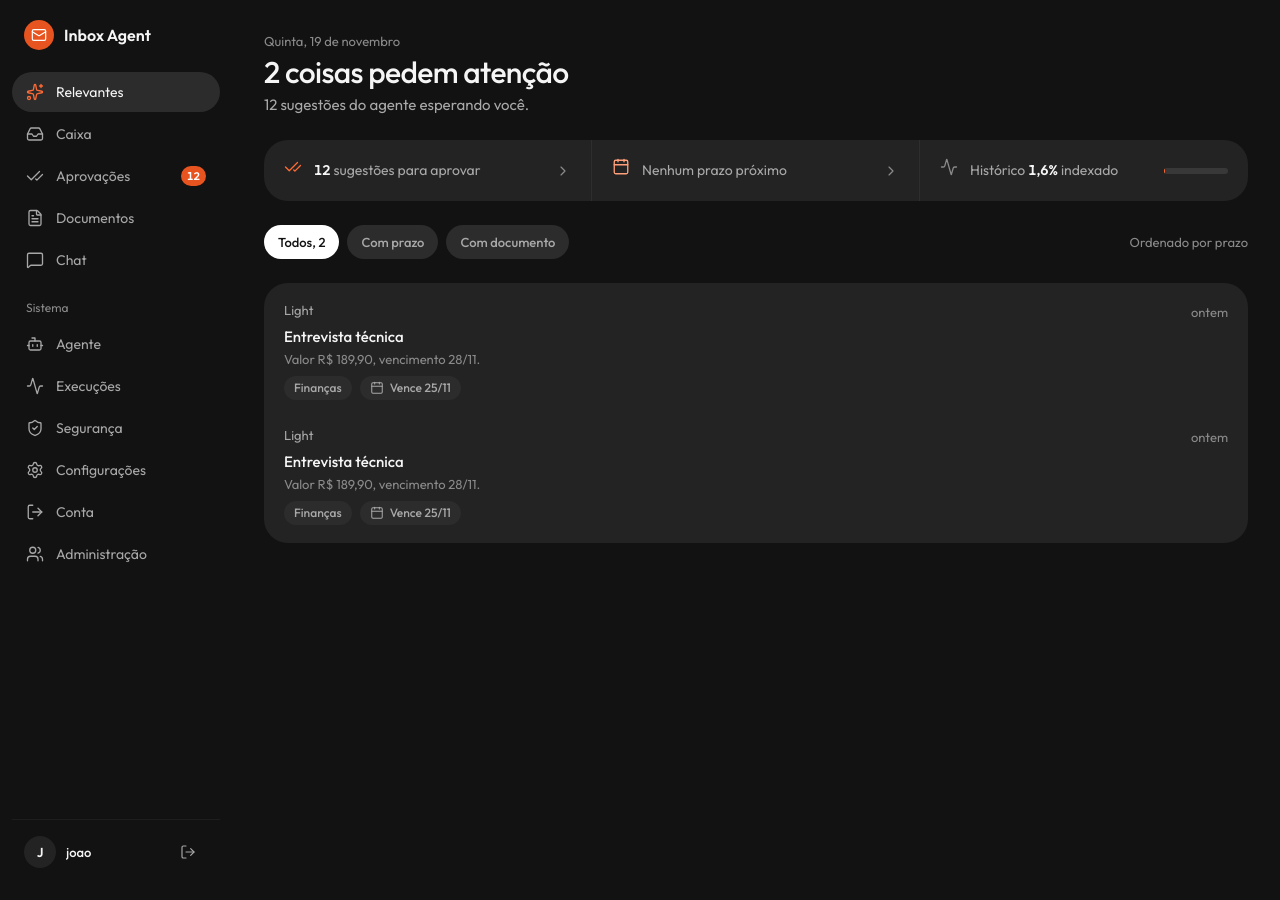
Scenario: document_filter_hides_others_and_empty_filter_has_message
Expected: the heading "2 coisas pedem atenção" is shown, [264,54,569,90]
Click the button "Com documento": (508, 242) [446,225,569,259]
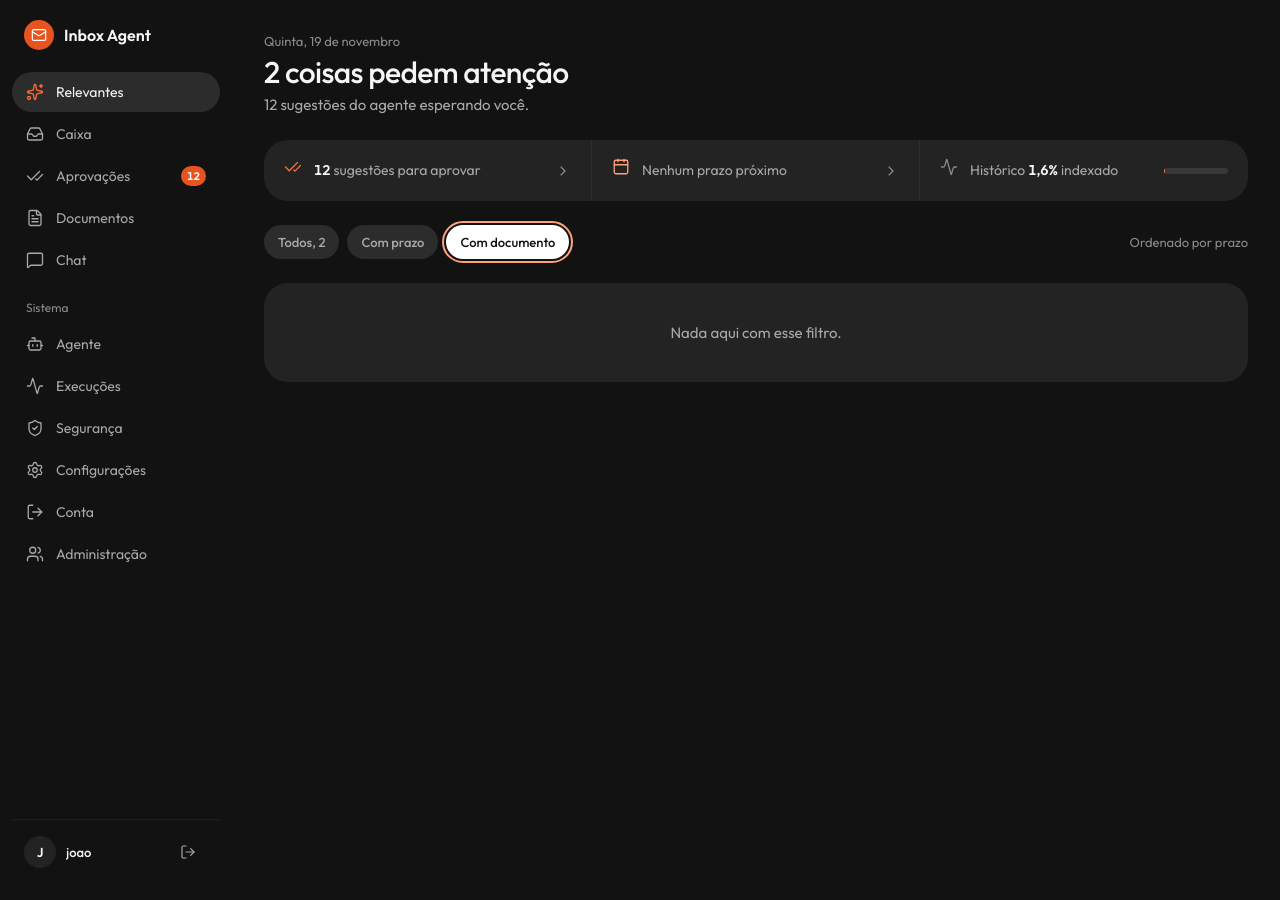
Expected: the text "Nada aqui com esse filtro." is shown, [670,323,842,342]
Click the button "Todos, 2": (302, 242) [264,225,339,259]
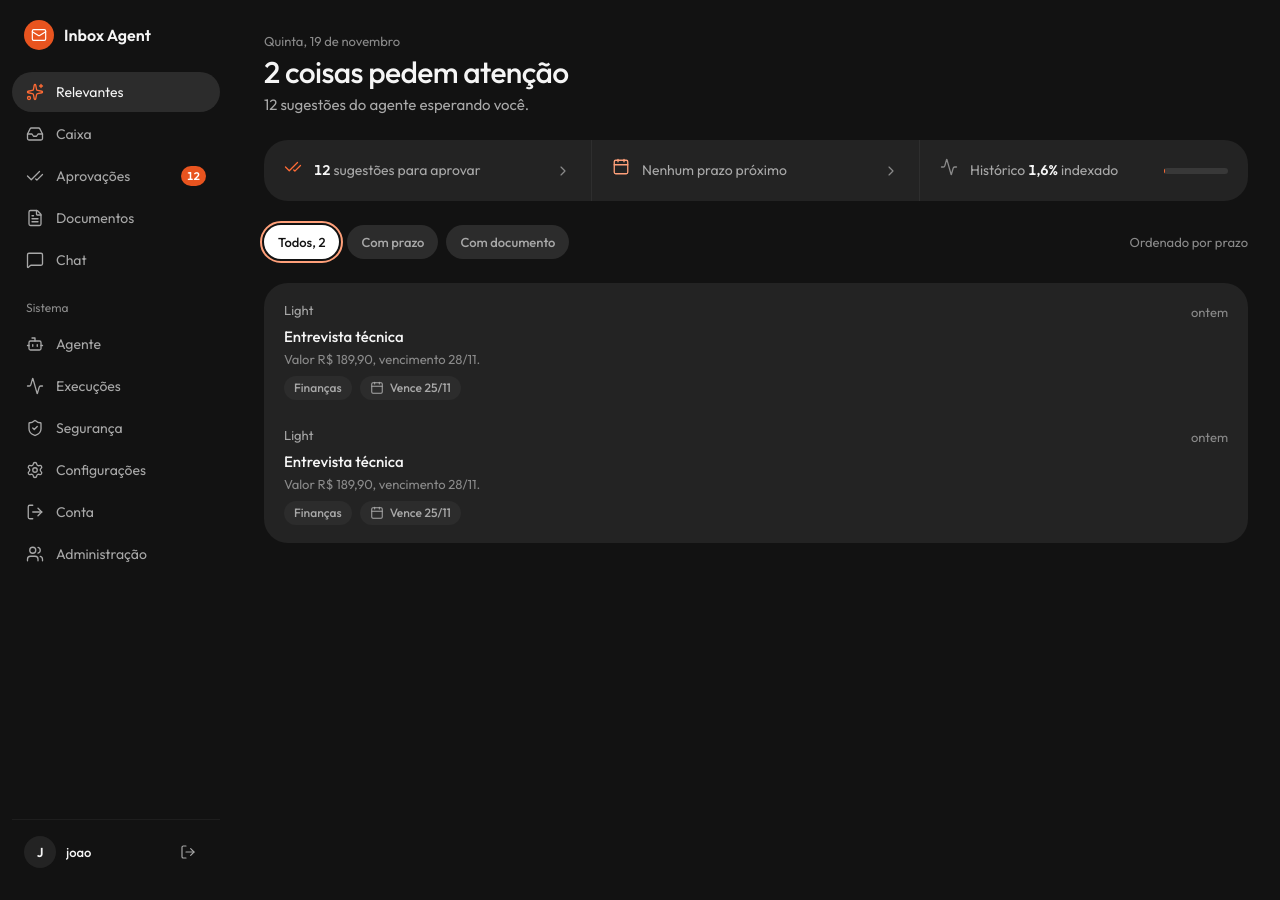
Expected: the text "Nada aqui com esse filtro." is gone
